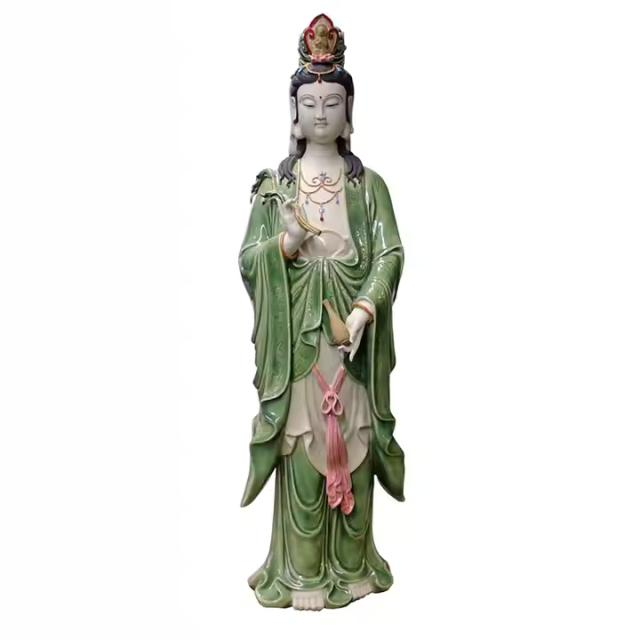Guan Yin: (233, 8, 405, 615)
